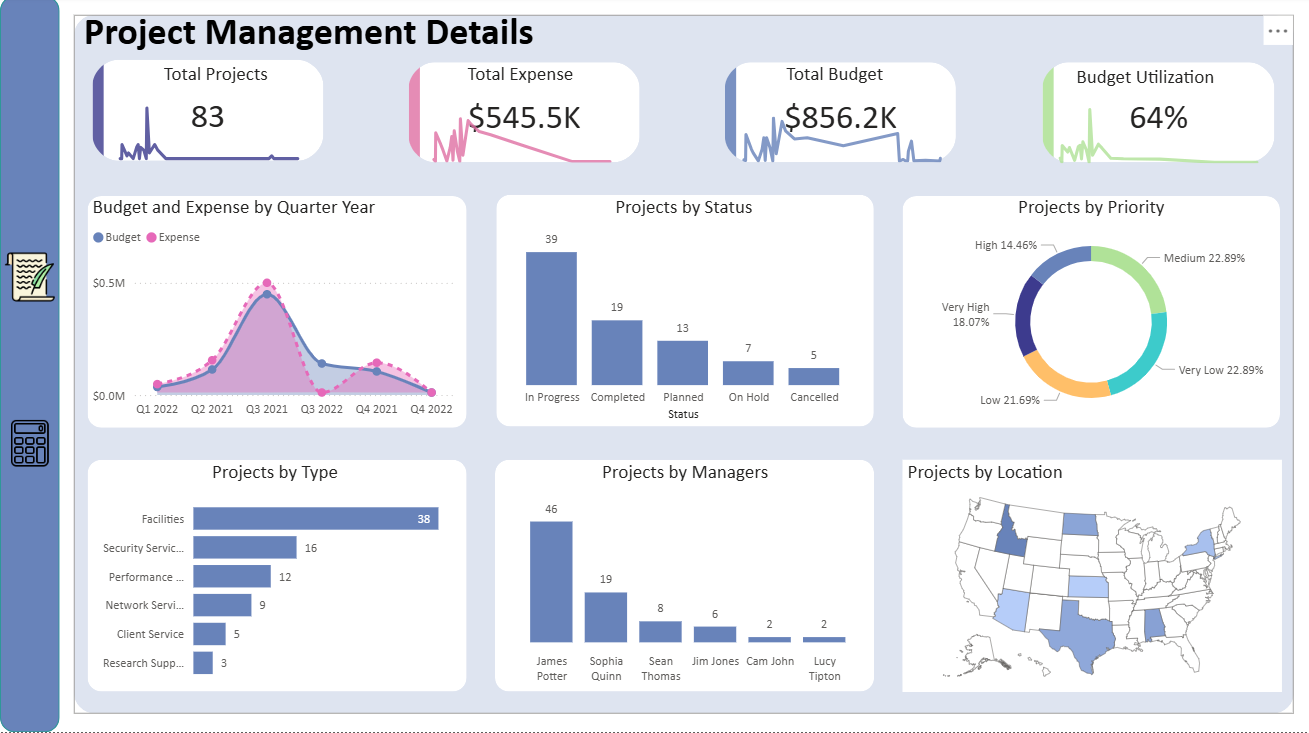

Layout of this report page (visuals, bound fields, positions):
{"tool":"powerbi","page":{"name":"Summary","canvas":[1280,720],"ordinal":0},"visuals":[{"type":"shape","box":[72,18.4,1193.9,683.5],"z":0},{"type":"cardVisual","fields":{"Data":["Table1.Project ID"]},"box":[85.1,57.5,236.6,109.6],"z":1000},{"type":"lineChart","fields":{"Y":["Table1.Project ID"],"Category":["Table1.Start Date"]},"box":[102.7,93.5,203.8,75.1],"z":2000},{"type":"textbox","box":[155.7,59.5,136.4,38.3],"z":3000},{"type":"cardVisual","fields":{"Data":["Table1.Expense"]},"box":[395.3,59.8,236,108.8],"z":4000},{"type":"lineChart","fields":{"Category":["Table1.Start Date"],"Y":["Table1.Expense"]},"box":[409.2,99.6,202.3,69],"z":5000},{"type":"textbox","box":[452.1,59.5,154.8,39.8],"z":6000},{"type":"cardVisual","fields":{"Data":["Table1.Budget"]},"box":[704.9,59.8,236,108.8],"z":7000},{"type":"lineChart","fields":{"Category":["Table1.Start Date"],"Y":["Table1.Budget"]},"box":[712.7,105.7,222.2,62.8],"z":8000},{"type":"cardVisual","fields":{"Data":["Projects.Budget Utilization"]},"box":[1014.6,59.8,237.6,108.8],"z":9000},{"type":"lineChart","fields":{"Category":["Projects.Start Date"],"Y":["Projects.Utilization"]},"box":[1022.3,85.4,222.6,83.2],"z":10000},{"type":"textbox","box":[764.8,59.5,153.3,38.3],"z":11000},{"type":"textbox","box":[1048,62.4,171.2,37.9],"z":12000},{"type":"shape","box":[85.2,195.3,370.9,226.8],"z":13000},{"type":"areaChart","fields":{"Category":["Projects.Quarter Year"],"Y":["Projects.Budget"],"Y2":["Projects.Expense"]},"box":[85.8,194.6,366.3,226.8],"z":14000},{"type":"shape","box":[484.9,194.6,369.4,226.8],"z":15000},{"type":"shape","box":[883.1,195.3,369.4,226.8],"z":16000},{"type":"columnChart","title":"Projects by Status","fields":{"Category":["Projects.Status"],"Y":["Projects.Project ID"]},"box":[484.3,194.6,369.4,226.8],"z":17000},{"type":"donutChart","fields":{"Category":["Projects.Priority "],"Y":["Projects.Project ID"]},"box":[882.8,194.6,369.4,226.8],"z":18000},{"type":"shape","box":[85.8,453.6,370.9,226.8],"z":19000},{"type":"barChart","title":"Projects by Type","fields":{"Category":["Projects.Project Type"],"Y":["Projects.Project ID"]},"box":[84.3,453.6,369.4,226.8],"z":20000},{"type":"shape","box":[484.3,453.6,370.9,226.8],"z":21000},{"type":"columnChart","title":"Projects by Managers","fields":{"Y":["Projects.Project ID"],"Category":["Projects.Project Manager"]},"box":[485.8,453.6,369.4,226.8],"z":22000},{"type":"shape","box":[882.8,453.6,370.9,226.8],"z":23000},{"type":"shapeMap","title":"Projects by Location","fields":{"Category":["Projects.Location"],"Value":["Projects.Project ID"]},"box":[882.8,453.6,370.9,226.8],"z":24000},{"type":"shape","box":[0,0,58.2,720.3],"z":25000},{"type":"image","box":[0,240.9,58.7,67.3],"z":26000},{"type":"image","box":[0,401.5,58.2,72],"z":27000},{"type":"textbox","box":[76.6,7.7,461.3,59.8],"z":28000}]}

Visuals, with their boxes in screenshot pixels (x1, y1, x2, y2), scaled from the page's 1280x720 canvas onto the 1309x733 screenshot:
shape: 74/19/1295/715
cardVisual - Table1.Project ID: 87/59/329/170
lineChart - Table1.Project ID x Table1.Start Date: 105/95/313/172
textbox: 159/61/299/100
cardVisual - Table1.Expense: 404/61/646/172
lineChart - Table1.Start Date x Table1.Expense: 418/101/625/172
textbox: 462/61/621/101
cardVisual - Table1.Budget: 721/61/962/172
lineChart - Table1.Start Date x Table1.Budget: 729/108/956/172
cardVisual - Projects.Budget Utilization: 1038/61/1281/172
lineChart - Projects.Start Date x Projects.Utilization: 1045/87/1273/172
textbox: 782/61/939/100
textbox: 1072/64/1247/102
shape: 87/199/466/430
areaChart - Projects.Quarter Year x Projects.Budget: 88/198/462/429
shape: 496/198/874/429
shape: 903/199/1281/430
"Projects by Status" columnChart: 495/198/873/429
donutChart - Projects.Priority  x Projects.Project ID: 903/198/1281/429
shape: 88/462/467/693
"Projects by Type" barChart: 86/462/464/693
shape: 495/462/875/693
"Projects by Managers" columnChart: 497/462/875/693
shape: 903/462/1282/693
"Projects by Location" shapeMap: 903/462/1282/693
shape: 0/0/60/732
image: 0/245/60/314
image: 0/409/60/482
textbox: 78/8/550/69
